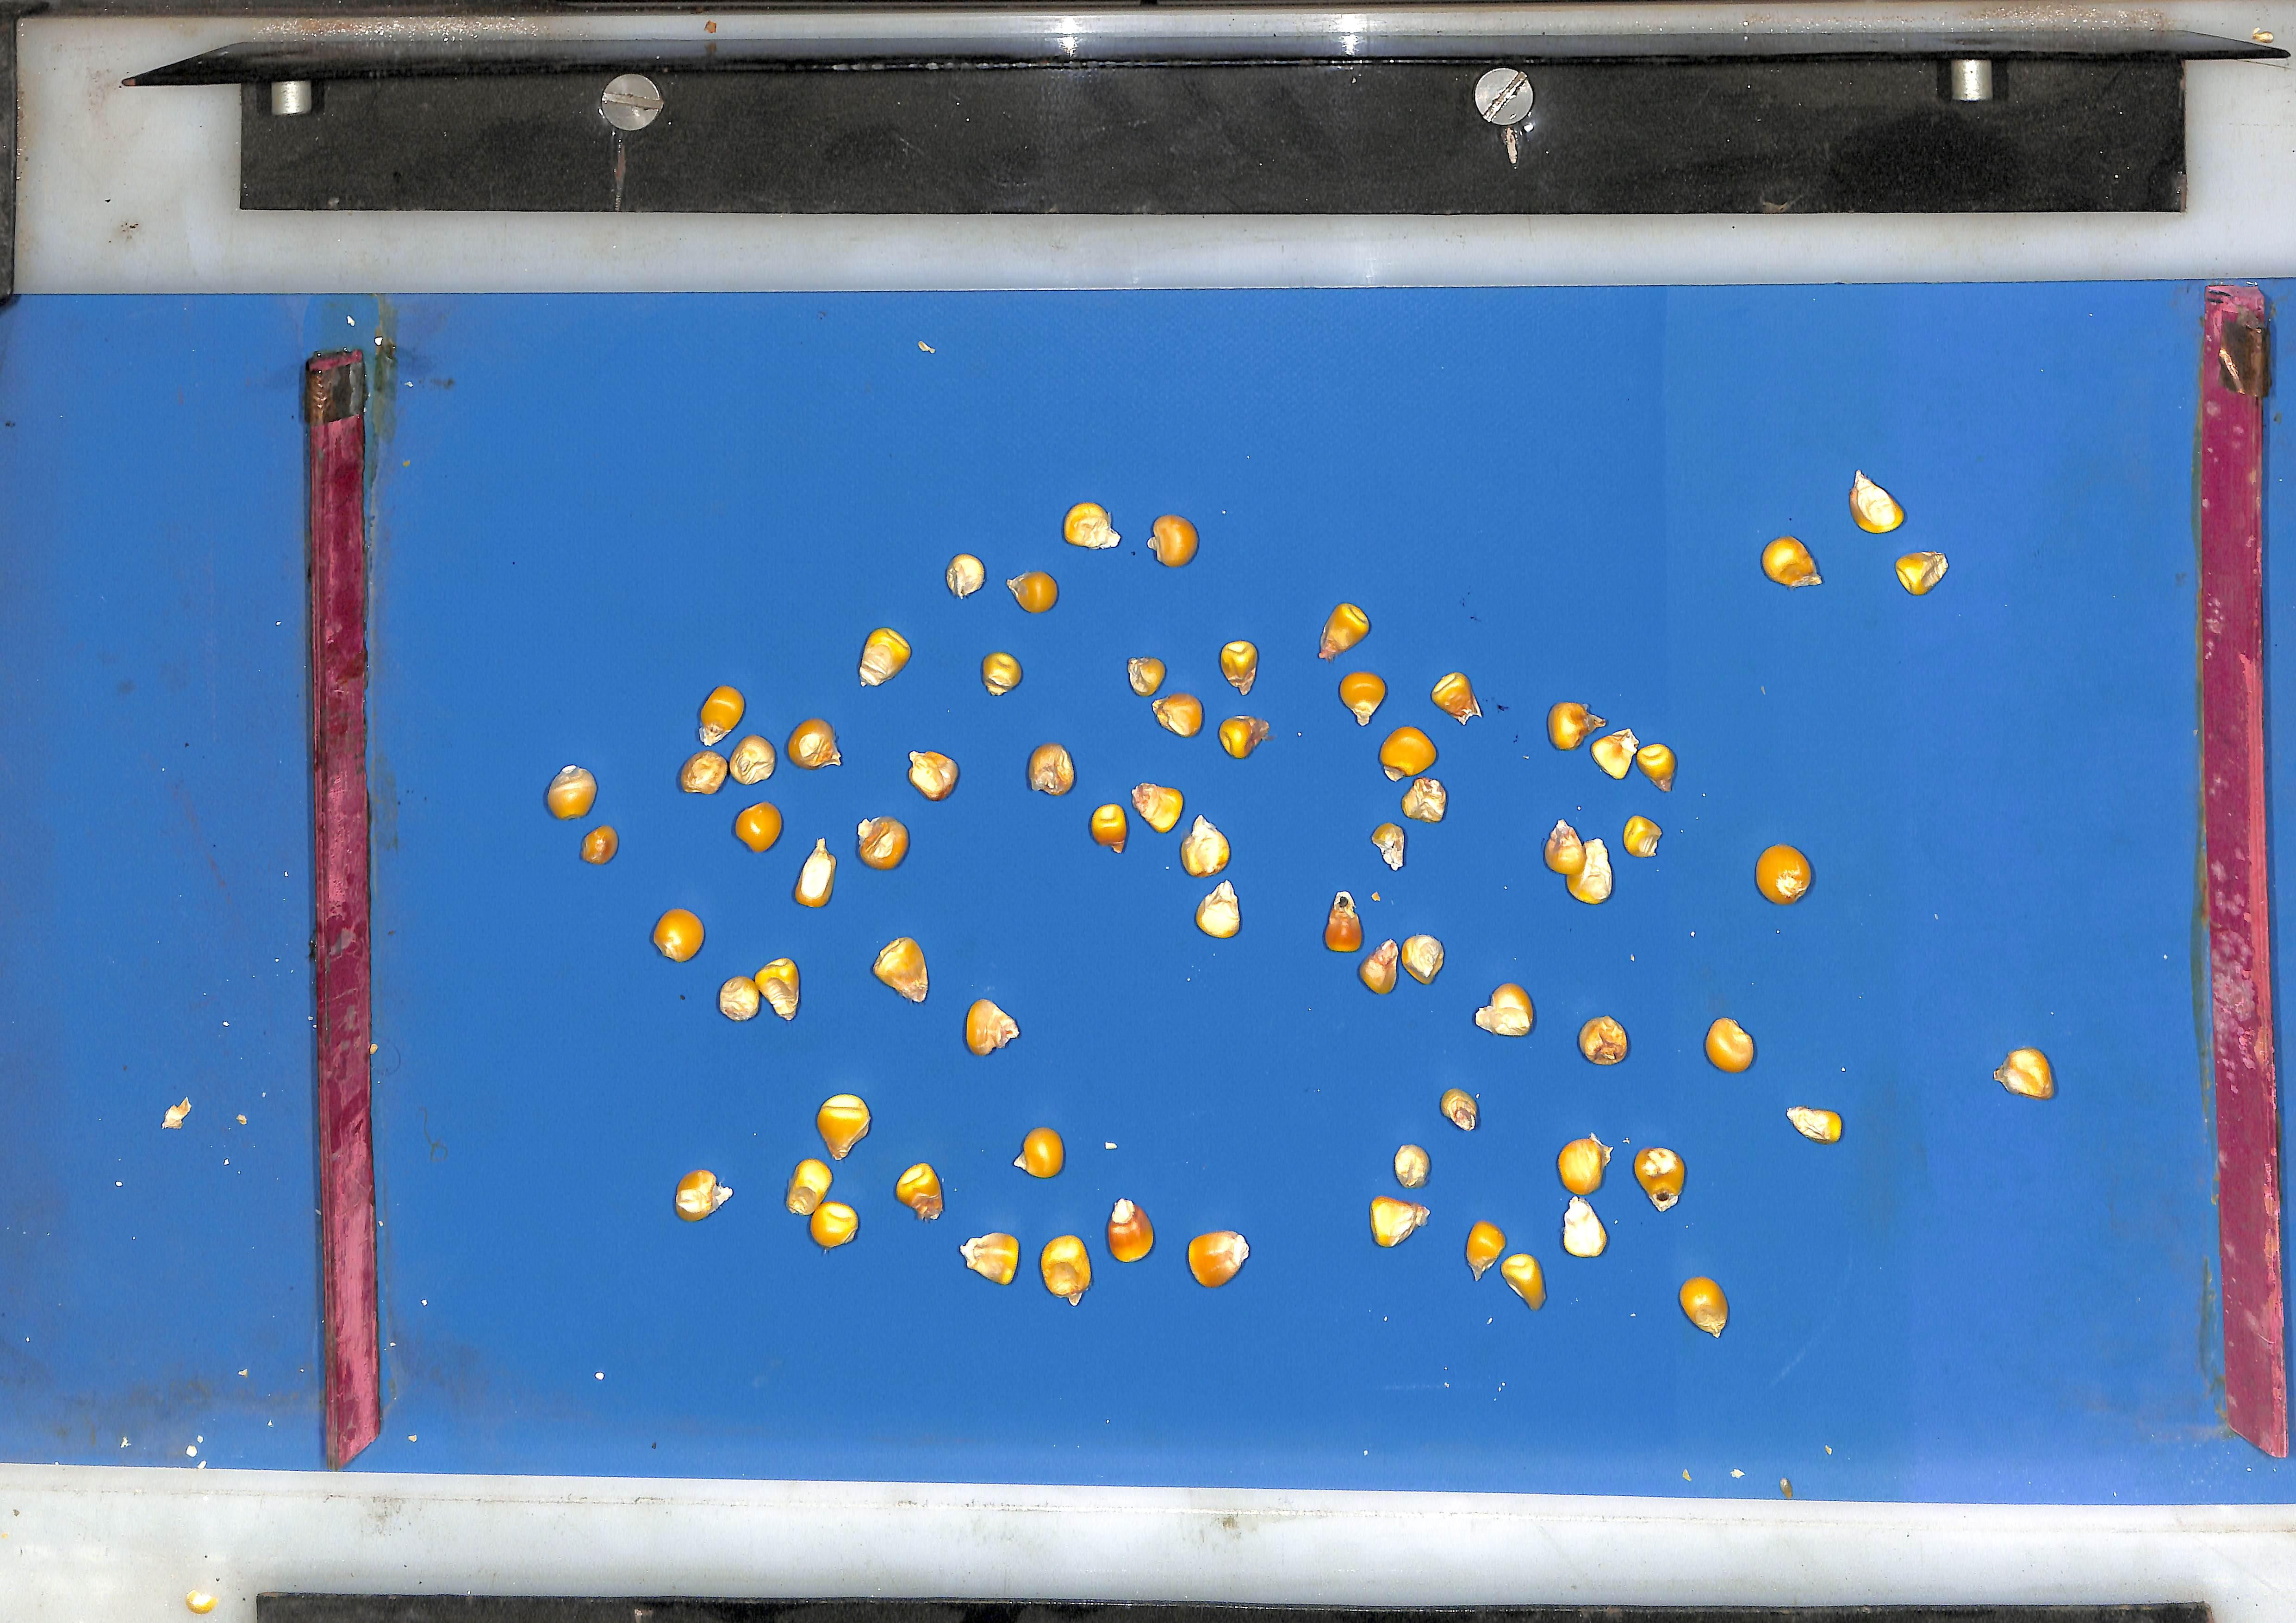Im-Sh: (1545, 819, 1615, 905), (1852, 467, 1908, 532), (872, 936, 927, 1003), (1039, 1237, 1090, 1307), (1188, 1231, 1250, 1289), (816, 1094, 869, 1161), (1759, 843, 1815, 905), (1559, 1135, 1613, 1198), (1636, 1149, 1689, 1212), (964, 998, 1020, 1056), (1380, 725, 1439, 780), (857, 627, 911, 685), (960, 1233, 1020, 1286), (1476, 984, 1536, 1036), (1106, 1200, 1153, 1265), (1371, 1198, 1431, 1249), (1548, 699, 1608, 750), (1998, 1049, 2057, 1100), (1764, 534, 1824, 585), (1181, 815, 1231, 876), (1682, 1277, 1731, 1338), (792, 838, 836, 906), (751, 957, 799, 1021), (785, 717, 841, 769), (672, 1172, 730, 1223), (857, 815, 909, 869), (1320, 602, 1371, 659), (893, 1165, 943, 1223), (1432, 671, 1485, 724), (544, 764, 595, 819), (651, 908, 702, 963), (785, 1159, 832, 1217), (699, 685, 744, 745), (1148, 513, 1199, 566), (1708, 1019, 1757, 1073), (1064, 501, 1120, 548), (1501, 1254, 1548, 1310), (1195, 880, 1241, 938), (1564, 1200, 1610, 1258), (908, 750, 958, 801), (1580, 1017, 1631, 1066), (1132, 783, 1185, 831), (1027, 741, 1074, 794), (732, 803, 781, 852), (1592, 727, 1639, 778), (676, 748, 728, 794), (1341, 671, 1387, 724), (1325, 891, 1364, 952), (1467, 1223, 1508, 1280), (1218, 715, 1271, 759), (1899, 550, 1952, 594), (1359, 940, 1401, 994), (809, 1201, 857, 1249), (1018, 1129, 1064, 1179), (728, 734, 774, 783), (1401, 934, 1446, 984), (1153, 692, 1204, 736), (1220, 638, 1259, 694), (1403, 776, 1450, 822), (1008, 569, 1057, 611), (1789, 1107, 1845, 1143), (716, 977, 760, 1022), (1638, 743, 1678, 790), (1090, 803, 1129, 852), (981, 650, 1022, 694), (944, 552, 985, 595), (1394, 1145, 1432, 1189), (1441, 1089, 1480, 1131), (1625, 815, 1664, 857), (1373, 822, 1406, 869), (579, 824, 616, 864), (1129, 655, 1166, 694)
